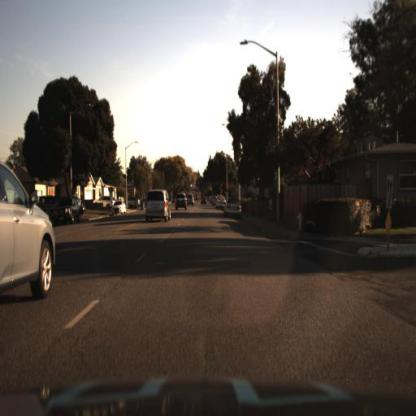car: (1, 164, 58, 319), (143, 186, 173, 228), (224, 195, 240, 218), (97, 193, 116, 208), (175, 192, 187, 212), (112, 199, 125, 215), (200, 196, 210, 204)
